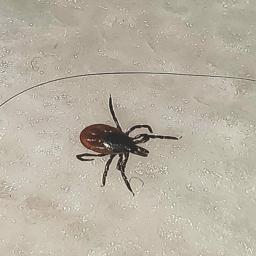Ixodes scapularis: (78, 93, 181, 197)
